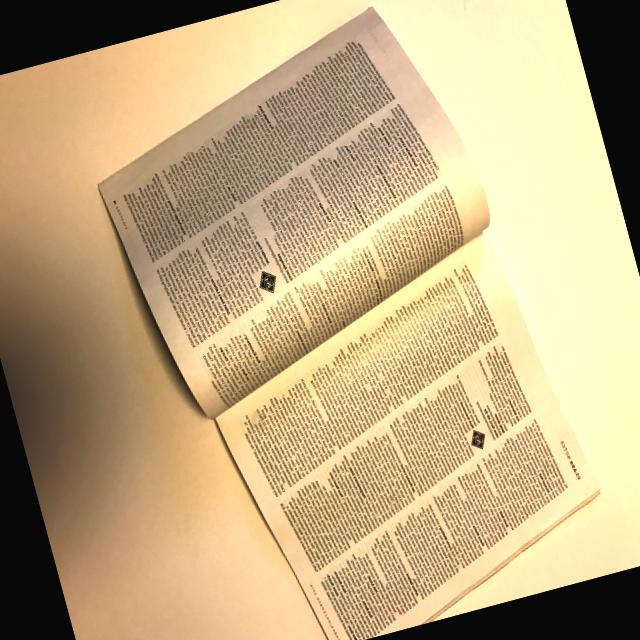Paper: (29, 0, 636, 640)
